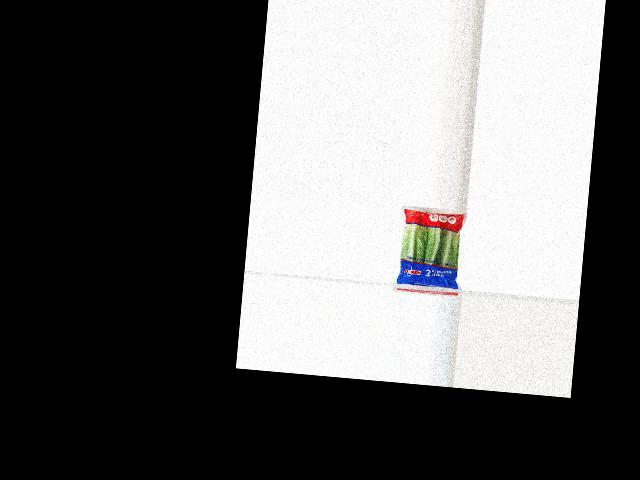lettuce: (395, 205, 466, 291)
